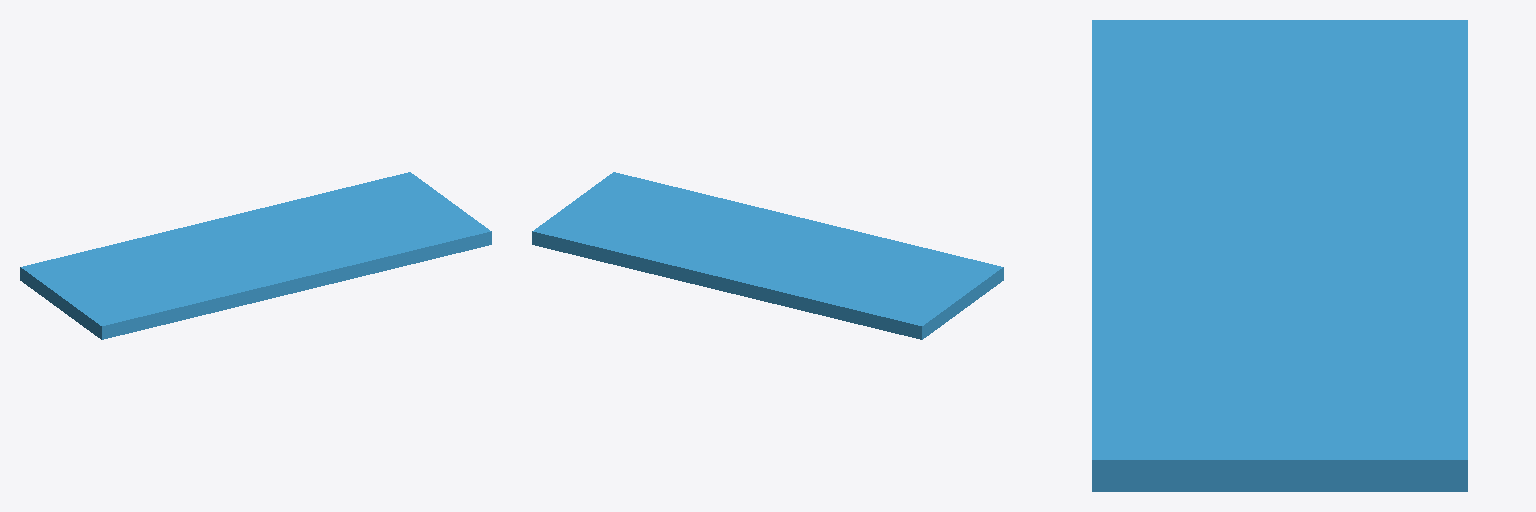
robot.urdf — cylinder_9:
    
    <robot name="cylinder_9">
        <link name="cylinder_9">    
            <fem>
                <origin rpy="0.0 0.0 0.0" xyz="0 0 0" />
                <density value="100" />
                <youngs value="6226"/>
                <poissons value="0.3" />
                <damping value="0.0" />
                <attachDistance value="0.01" />
                <tetmesh filename="[local-path]/sim_data/Custom/Custom_mesh/multi_cylinder_5kPa/cylinder_9.tet" />
                <scale value="0.5"/>
            </fem>
        </link>

        <link name="fix_frame">
            <visual>
                <origin xyz="0.0 0.0 10.079337569374605"/>
                <geometry>
                    <box size="0.15 0.0541046039842827 0.005"/>
                </geometry>
            </visual>
            <collision>
                <origin xyz="0.0 0.0 0.0793375693746043"/>
                <geometry>
                    <box size="0.15 0.0541046039842827 0.005"/>
                </geometry>
            </collision>
            <inertial>
                <mass value="500000"/>
                <inertia ixx="0.05" ixy="0.0" ixz="0.0" iyy="0.05" iyz="0.0" izz="0.05"/>
            </inertial>
        </link>
        
        <joint name = "attach" type = "fixed">
            <origin xyz = "0.0 0.0 0.0" rpy = "0 0 0"/>
            <parent link ="cylinder_9"/>
            <child link = "fix_frame"/>
        </joint>  




    </robot>
    

--- Facts derived from the render (not from the file) ---
The picture shows the robot from 3 angles, left to right: view 1: azimuth 30°, elevation 25°; view 2: azimuth 150°, elevation 25°; view 3: azimuth 270°, elevation 25°; orthographic projection.
Model cylinder_9 with 2 links and 1 joints (1 fixed), rooted at cylinder_9, posed all joints at 0.
Visible links, largest first — view 1: fix_frame; view 2: fix_frame; view 3: fix_frame.
Link boxes in pixels (x1,y1,x2,y2): fix_frame: (20,172,491,339); fix_frame: (532,172,1003,339); fix_frame: (1092,20,1467,491).
Size in the robot's own frame: 0.15 by 0.0541 by 0.005 metres.
Geometry: primitives only (box / cylinder / sphere), no mesh files.